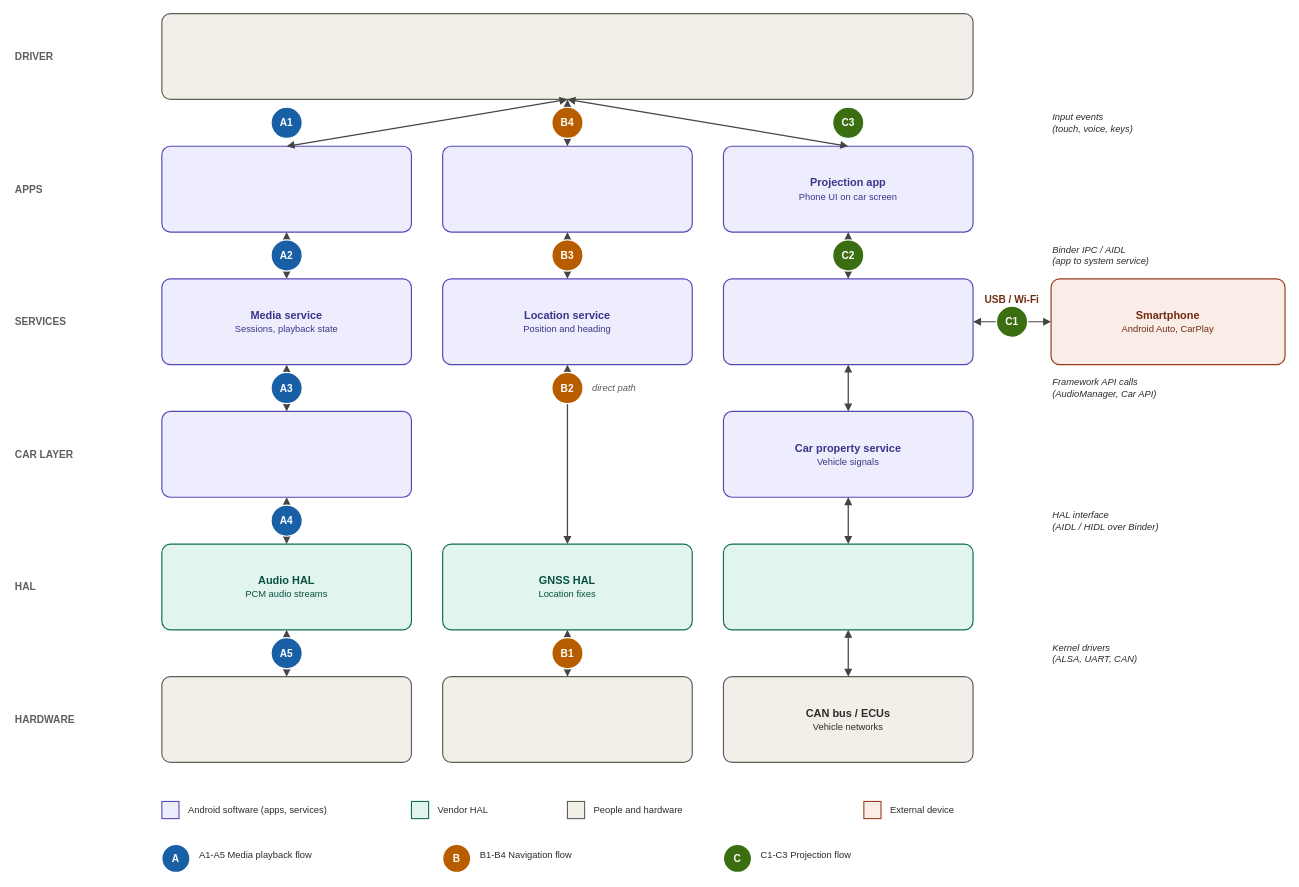
Some shapes in this 1299 by 887 pixel diagram are drawn without their labels. Here are the shapes that lost their labels. From the top down, the centre of each, then its label:
the point at 567,56: Driver / passenger Touchscreen, voice, steering-wheel keys
the point at 286,188: Media app Music, radio, streaming
the point at 567,188: Navigation app Maps, routing, guidance
the point at 848,321: Projection service Phone session manager
the point at 286,454: Car audio service Audio focus, volume
the point at 848,586: Vehicle HAL Speed, gear, signals
the point at 286,719: Speakers and amp Codec, DSP
the point at 567,719: GPS receiver Antenna, GNSS chip
